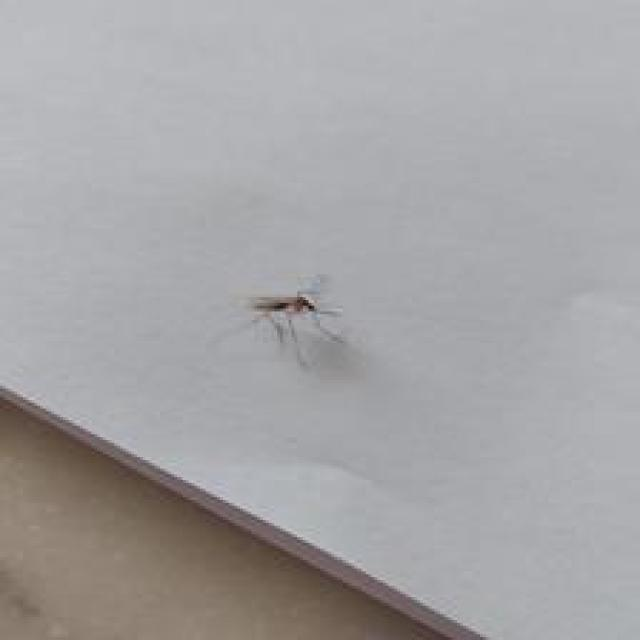Culex: (213, 274, 347, 369)
